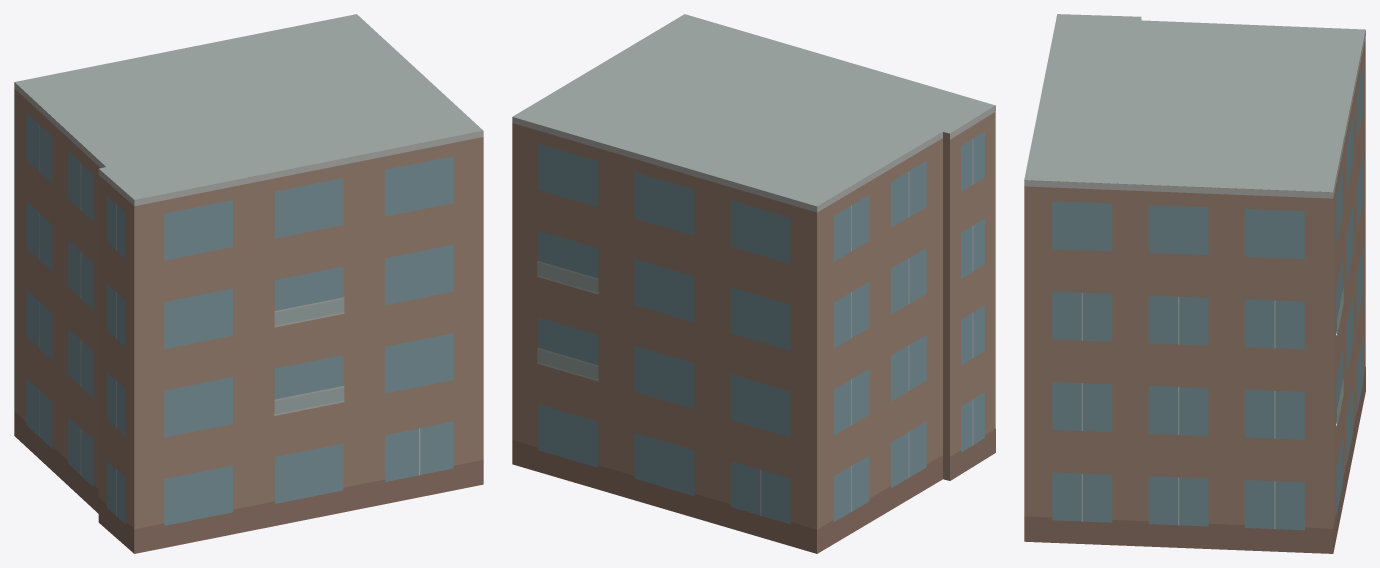
The model's file is survey-upis-32499304.glb.
3 renders of one model, left to right at view 1: azimuth 30°, elevation 25°; view 2: azimuth 150°, elevation 25°; view 3: azimuth 270°, elevation 25°, orthographic. The views are drawn at different scales.
Parts seen in each view (by area): view 1: survey-upis-32499304.tmp; view 2: survey-upis-32499304.tmp; view 3: survey-upis-32499304.tmp.
Boxes of the visible parts, x1,y1,x2,y2 form: survey-upis-32499304.tmp: (14, 14, 483, 553); survey-upis-32499304.tmp: (512, 14, 995, 553); survey-upis-32499304.tmp: (1024, 14, 1365, 553).
Size of the model in its own units: 14.67 by 13.87 by 11.89.
